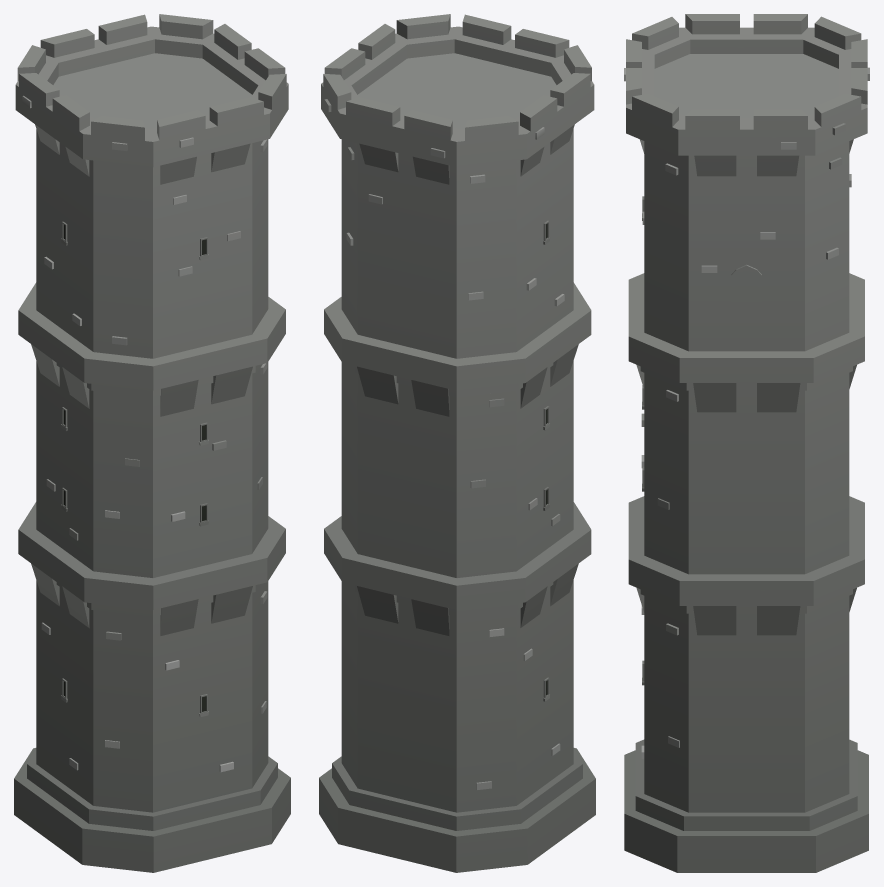
3 views of the same model, side by side, from view 1: azimuth 30°, elevation 25°; view 2: azimuth 150°, elevation 25°; view 3: azimuth 270°, elevation 25° (orthographic).
Parts seen in each view (by area): view 1: Tower5_0; view 2: Tower5_0; view 3: Tower5_0.
Boxes of the visible parts, x1=… form: Tower5_0: x1=14, y1=14, x2=290, y2=872; Tower5_0: x1=319, y1=14, x2=595, y2=872; Tower5_0: x1=624, y1=14, x2=869, y2=872.
Size of the model in its own units: 15.96 by 54.25 by 15.99.
Materials: 1 (1 with a texture image).
